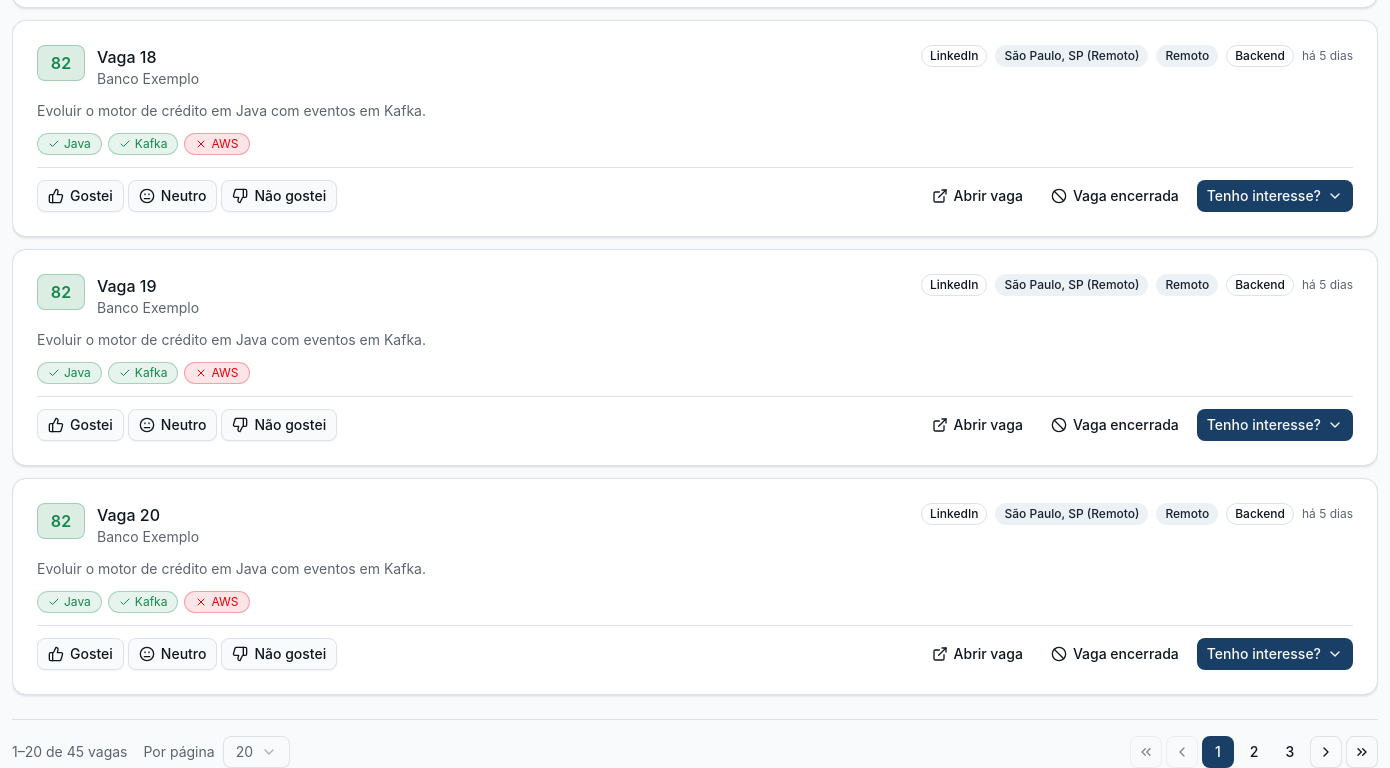
Test: InboxPage › navega entre as páginas da caixa
(page scrolled)
Expected: the text "1–20 de 45 vagas" is shown, 12,742 -> 128,762
Expected: the button named "Página anterior" is disabled, 1166,736 -> 1198,767
What coordinates should you click on to do the following:
click the button named "Próxima página"
I would click on:
 (1326, 752)
Its box is 1310,736 -> 1342,767.
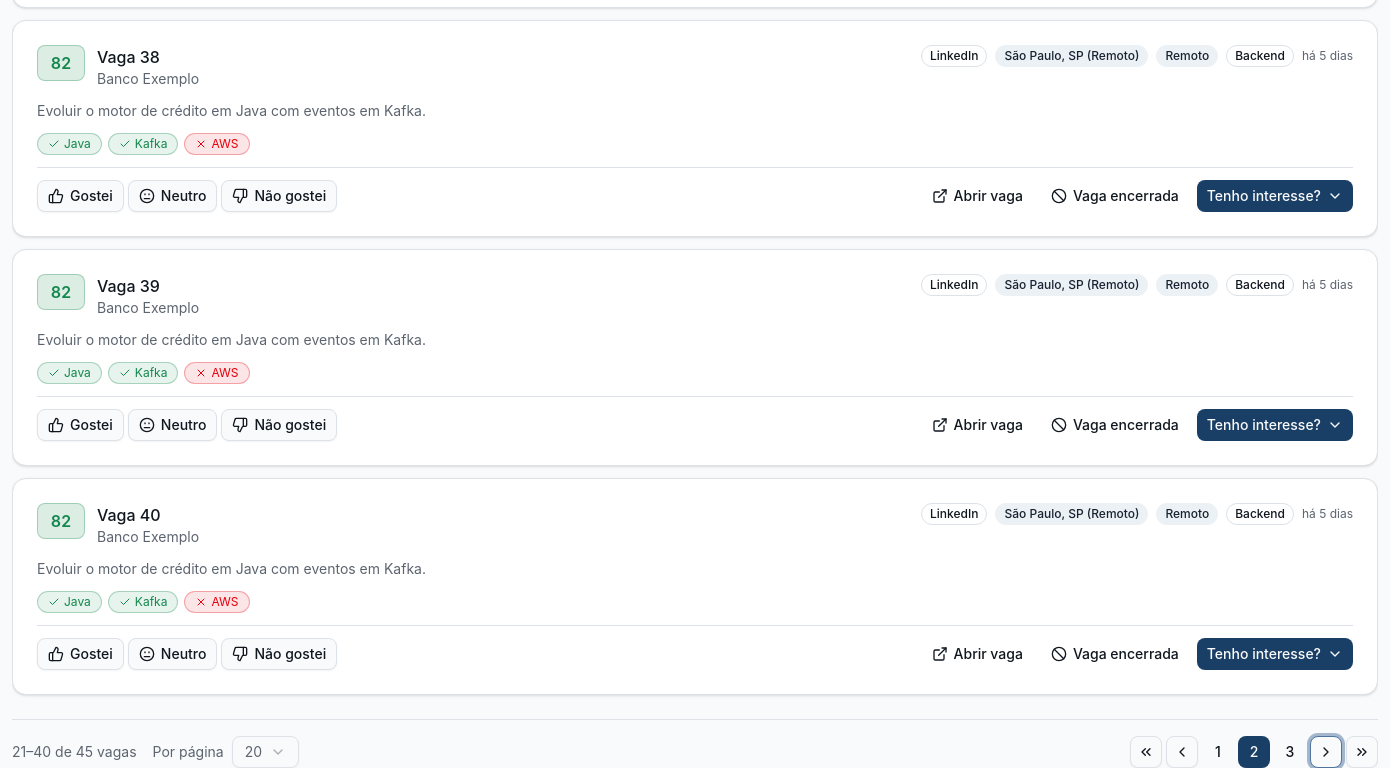
Expected: the text "21–40 de 45 vagas" is shown, 12,742 -> 136,762
What coordinates should you click on to do the following:
click the button named "Última página"
I would click on:
 (1362, 752)
Its box is 1346,736 -> 1378,767.
(page scrolled)
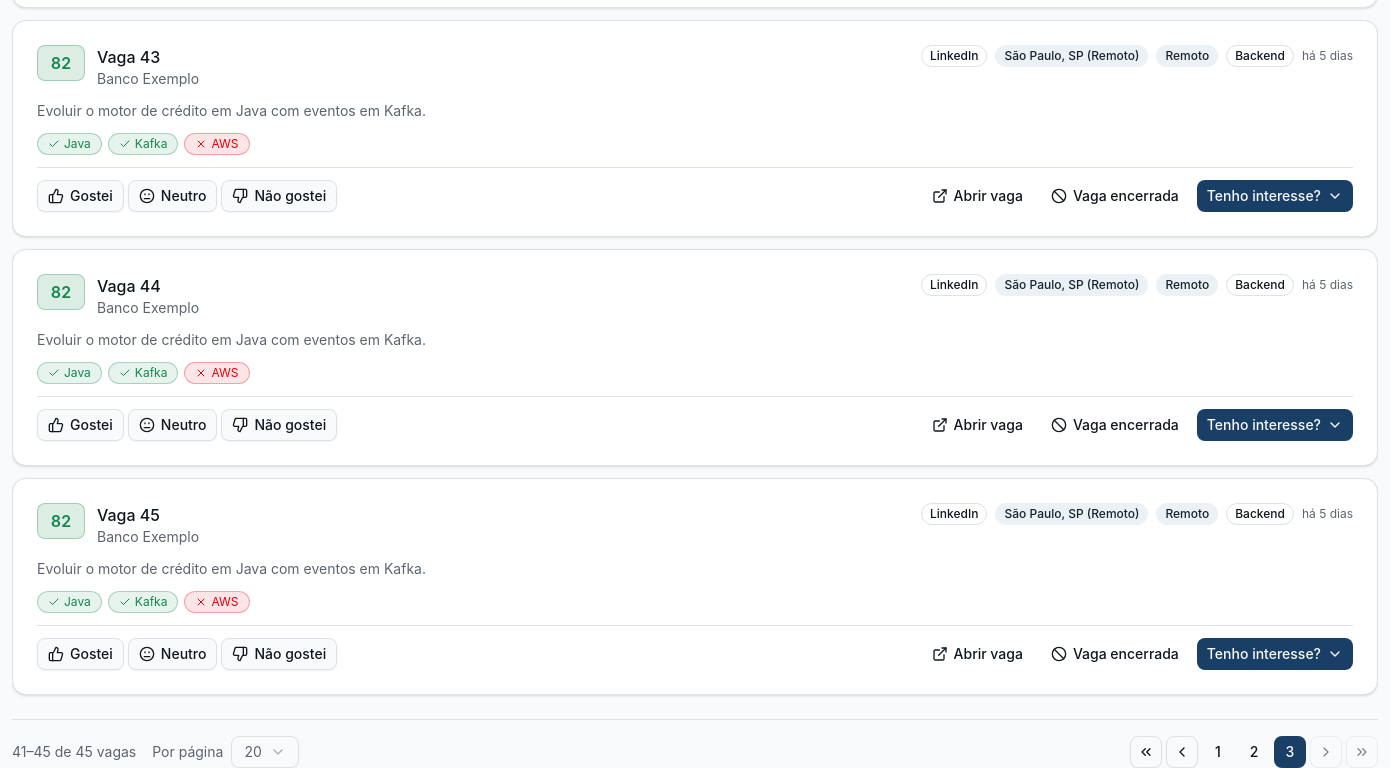
Expected: the link "Vaga 45" is shown, 97,505 -> 160,525
Expected: the button named "Próxima página" is disabled, 1310,736 -> 1342,767
